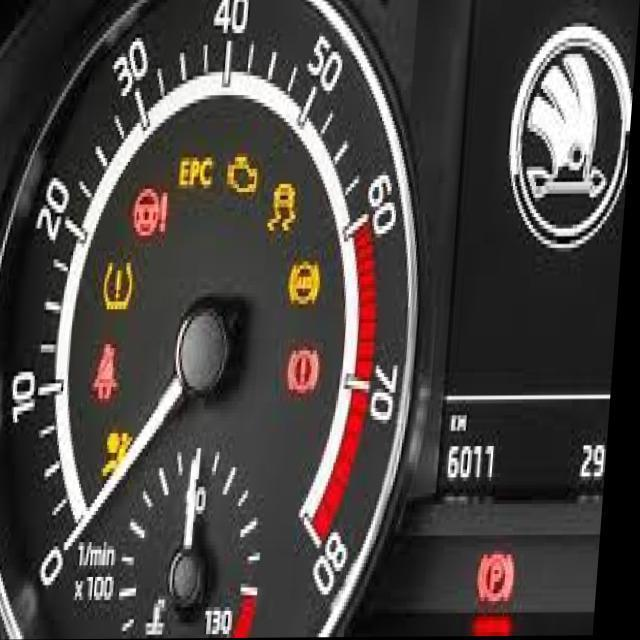Electronic Power Steering: (128, 185, 172, 236)
Seat Belt: (95, 342, 119, 402)
